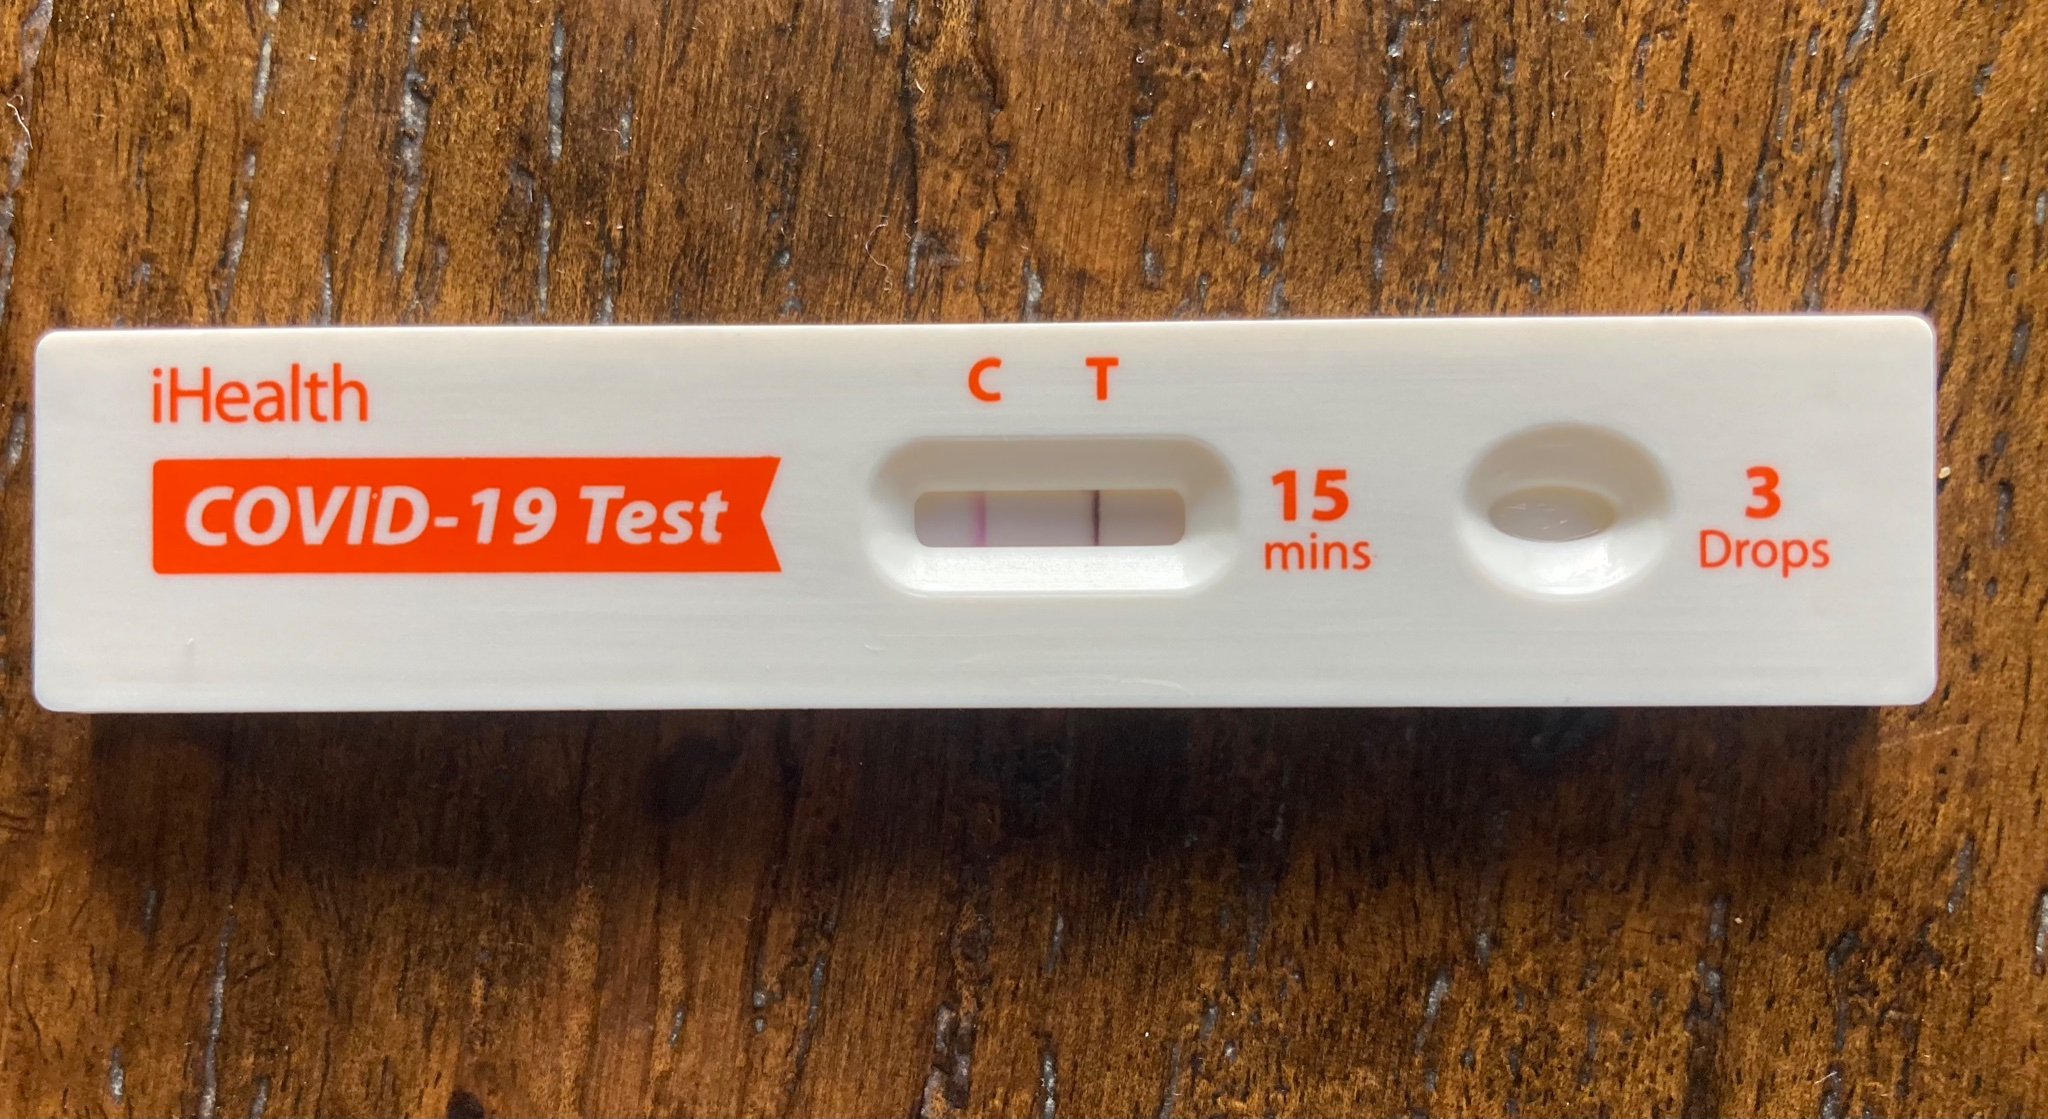positive: (894, 458, 1202, 582)
